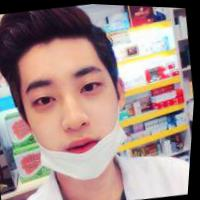NONE: (1, 63, 7, 79)
WRONG: (20, 58, 135, 184)
